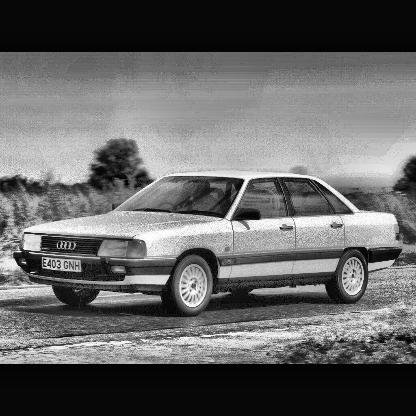Audi 100 Sedan 1994: (14, 169, 407, 319)
